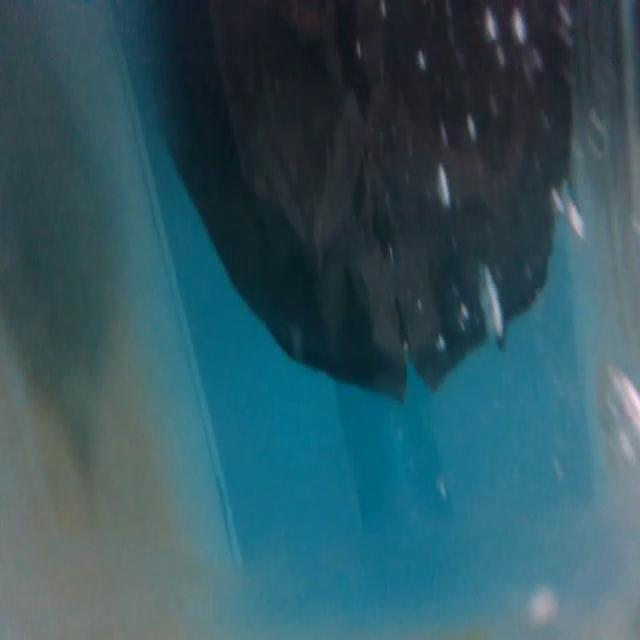plastic bags: (120, 3, 580, 408)
